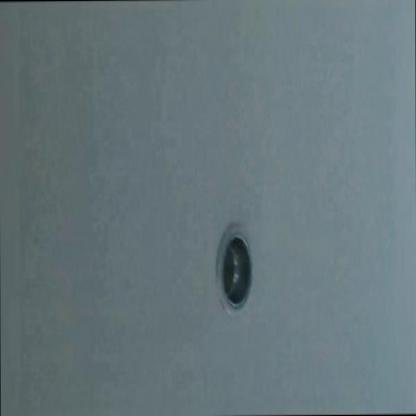light_off: (207, 201, 260, 333)
